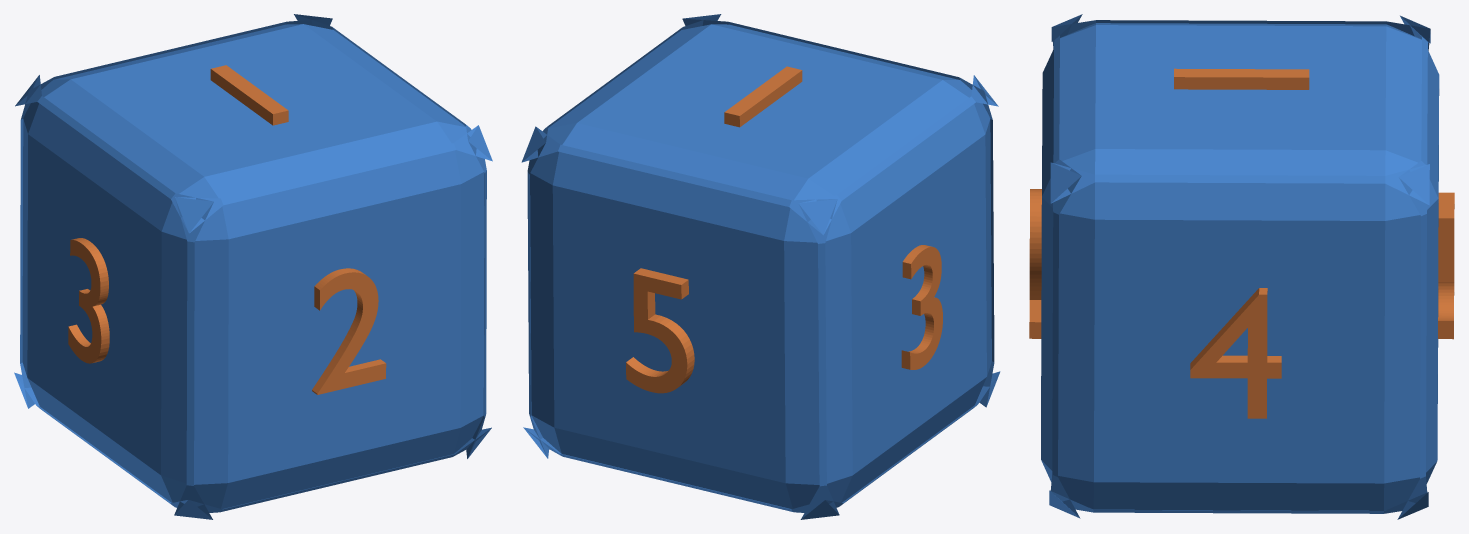
3 views of the same model, side by side, from view 1: azimuth 30°, elevation 25°; view 2: azimuth 150°, elevation 25°; view 3: azimuth 270°, elevation 25° (orthographic). The views are drawn at different scales.
Visible parts, largest first — view 1: Cube, Text.001, Text.002, Text; view 2: Cube, Text.004, Text.002, Text; view 3: Cube, Text.003, Text, Text.004, Text.001.
Boxes of the visible parts, x1,y1,x2,y2 form: Cube: [14, 14, 492, 519]; Text.001: [312, 268, 386, 394]; Text.002: [68, 238, 109, 363]; Text: [210, 65, 288, 125]; Cube: [521, 14, 1000, 519]; Text.004: [626, 268, 694, 393]; Text.002: [901, 245, 942, 369]; Text: [724, 66, 802, 127]; Cube: [1041, 14, 1439, 519]; Text.003: [1190, 288, 1281, 418]; Text: [1174, 68, 1309, 89]; Text.004: [1438, 192, 1454, 339]; Text.001: [1029, 189, 1041, 338].
Size of the model in its own units: 214 by 213 by 214.
